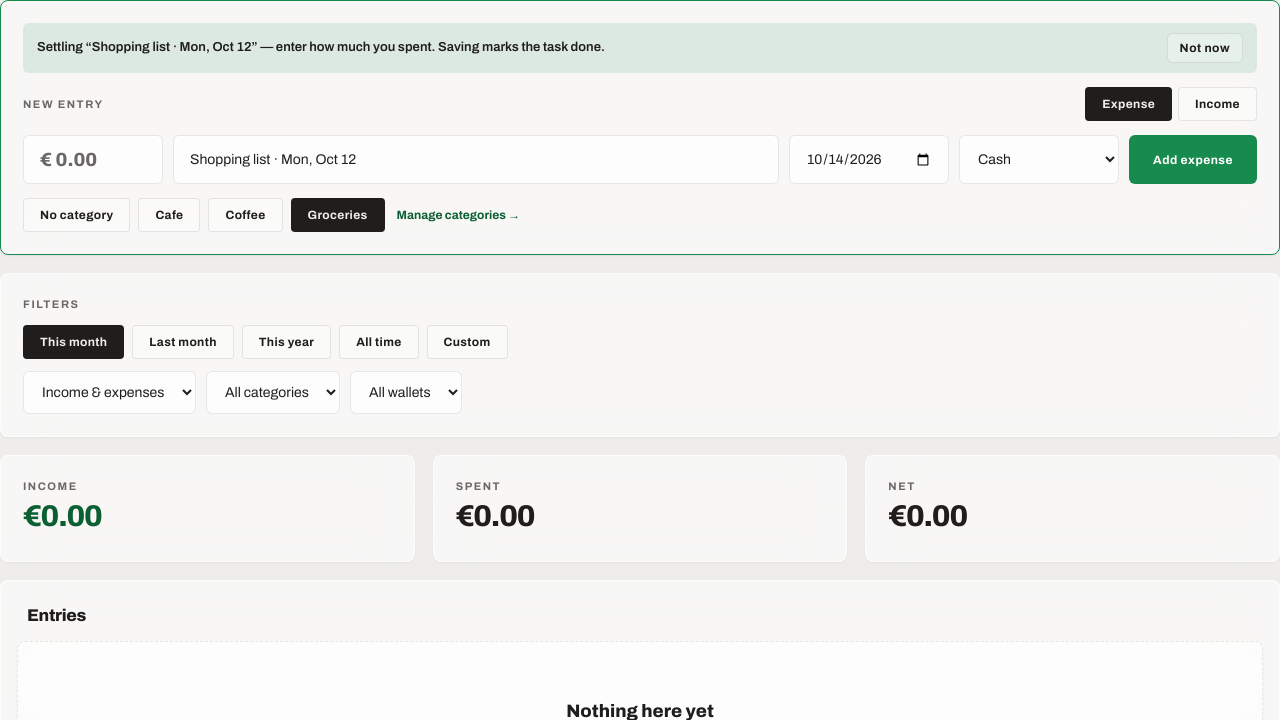
settling a Plans task › opens the form prefilled from the task — only the amount is left
Expected: the element with test id "settle-banner" shows "Settling “Shopping list · Mon, Oct 12”", [37, 40, 605, 54]
Expected: the field named "Note" holds "Shopping list · Mon, Oct 12", [173, 135, 779, 184]
In the field named "Amount": (93,160) [23, 135, 163, 184], type "64,20"
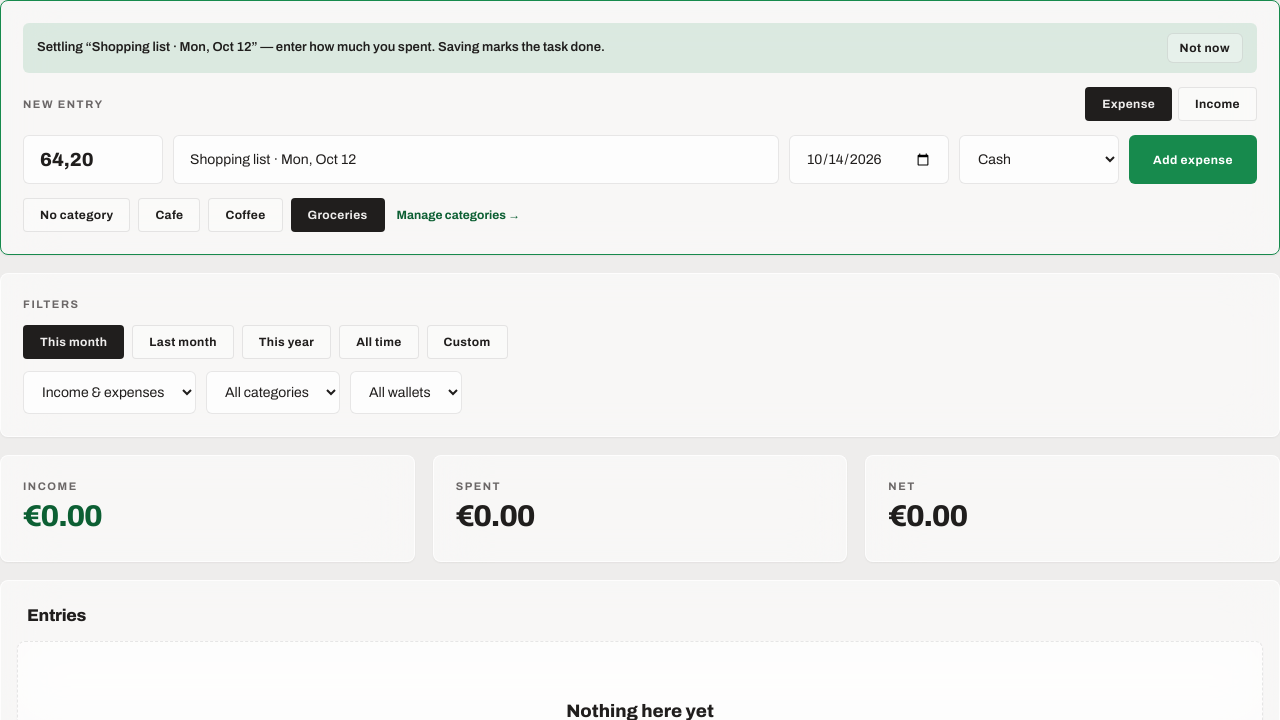
Click the button "Add expense": (1193,160) [1129, 135, 1257, 184]
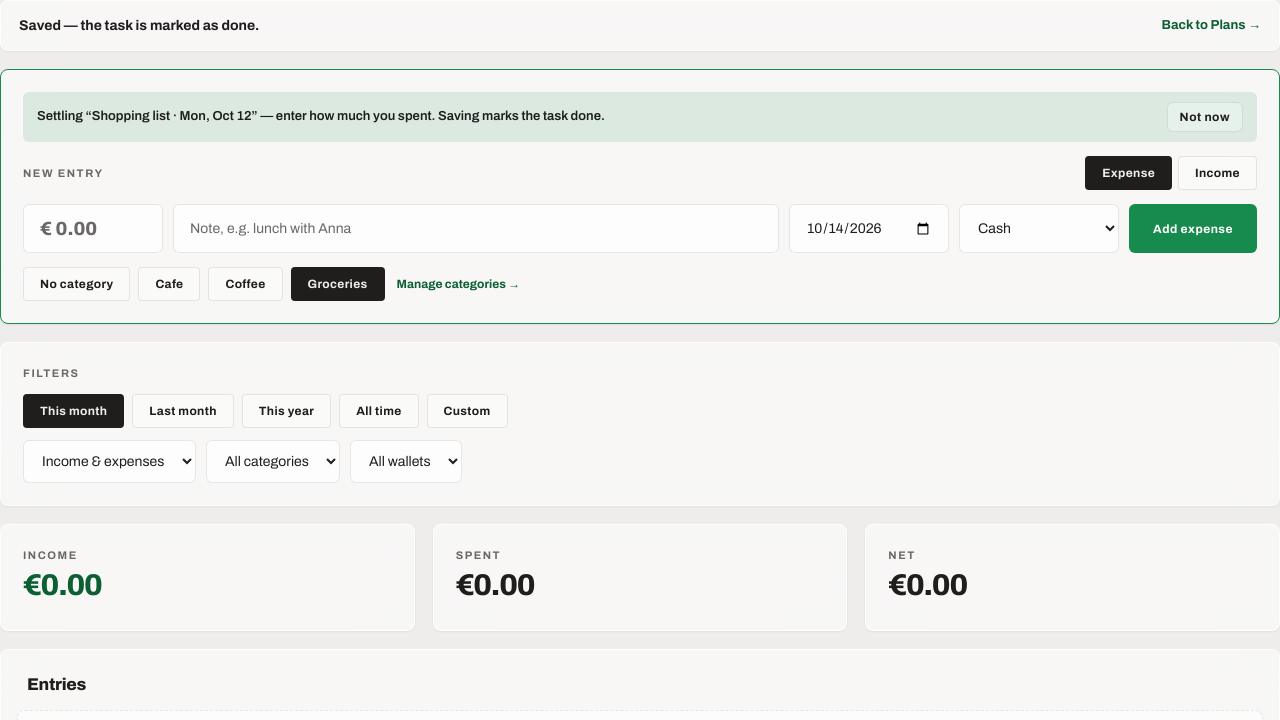
Expected: the message shows "the task is marked as done", [19, 18, 259, 33]
